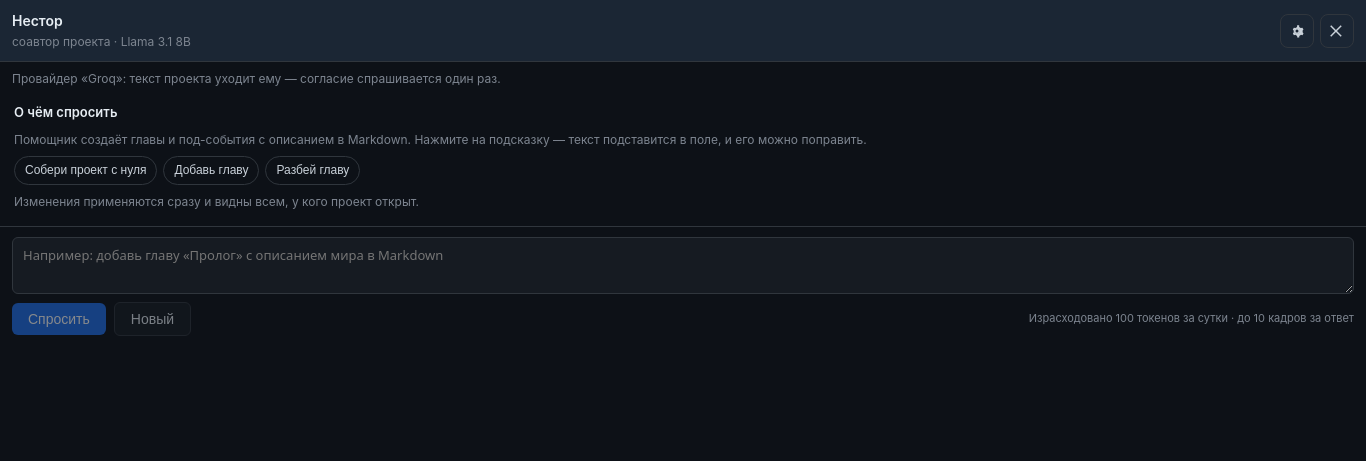
Test case: AssistantPanel › после ответа обновляет счётчик расхода без нового запроса
Type "Добавь главу" into the text box named "Сообщение помощнику" at {"x": 683, "y": 266}, box [12,237,1354,294]
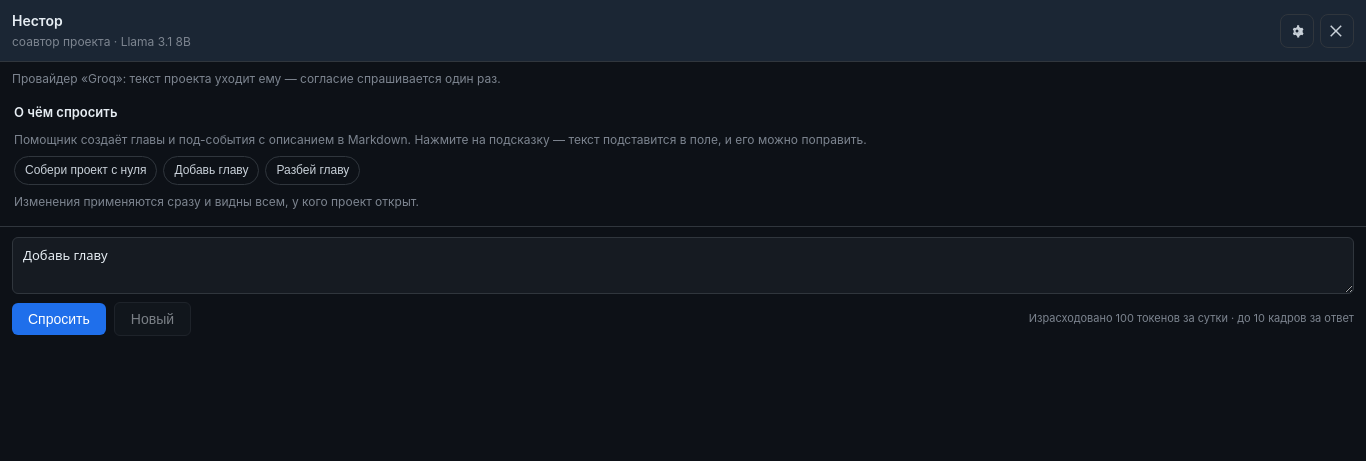
Click the button "Спросить" at {"x": 59, "y": 319}, box [12,303,106,335]
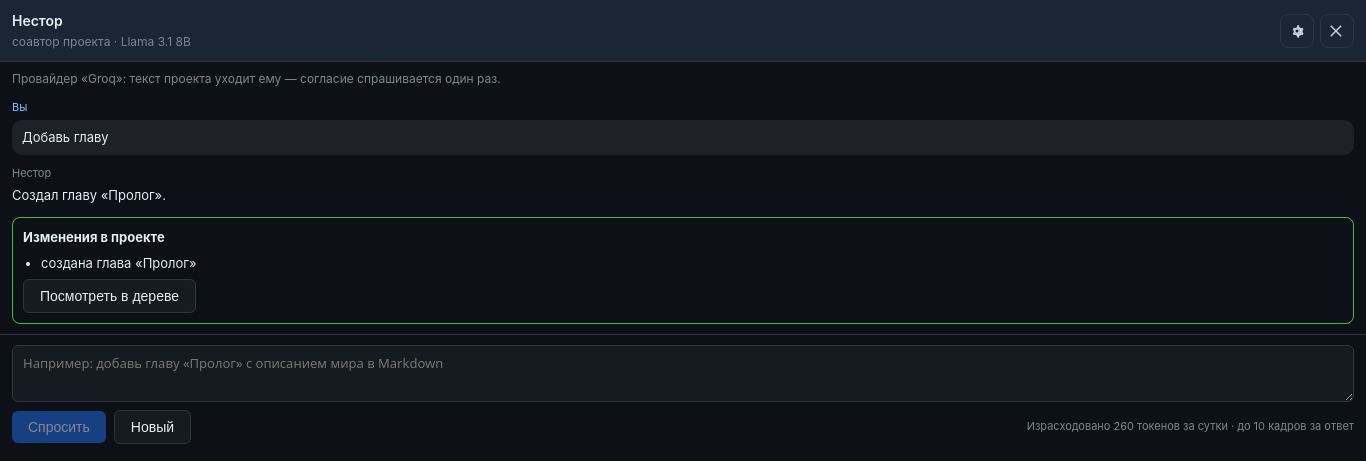
Check: the text "Израсходовано 260 токенов за сутки · до 10 кадров за ответ" is shown, box [1027,419,1354,435]
